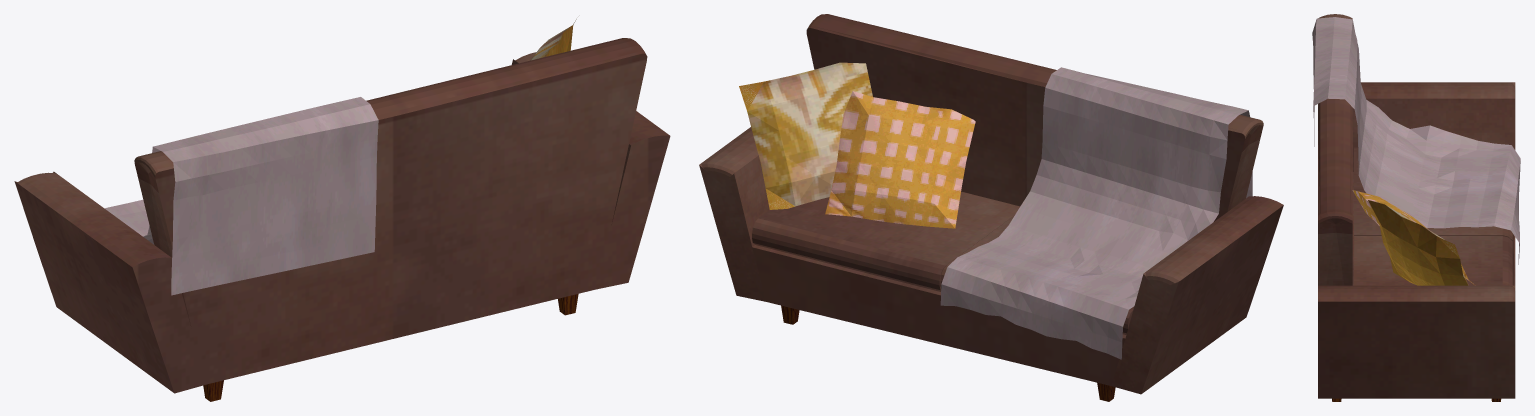
Rendered from Sillon_Main + Almohadones.fbx.
The picture shows the model from 3 angles, left to right: view 1: azimuth 30°, elevation 25°; view 2: azimuth 150°, elevation 25°; view 3: azimuth 270°, elevation 25°; orthographic projection. The views are drawn at different scales.
Parts seen in each view (by area): view 1: Sillon_Main + Almohadones; view 2: Sillon_Main + Almohadones; view 3: Sillon_Main + Almohadones.
Part boxes in pixels (x1=…): Sillon_Main + Almohadones: x1=14, y1=19, x2=670, y2=401; Sillon_Main + Almohadones: x1=699, y1=14, x2=1283, y2=401; Sillon_Main + Almohadones: x1=1312, y1=14, x2=1520, y2=401.
Size of the model in its own units: 166 by 77 by 66.59.
